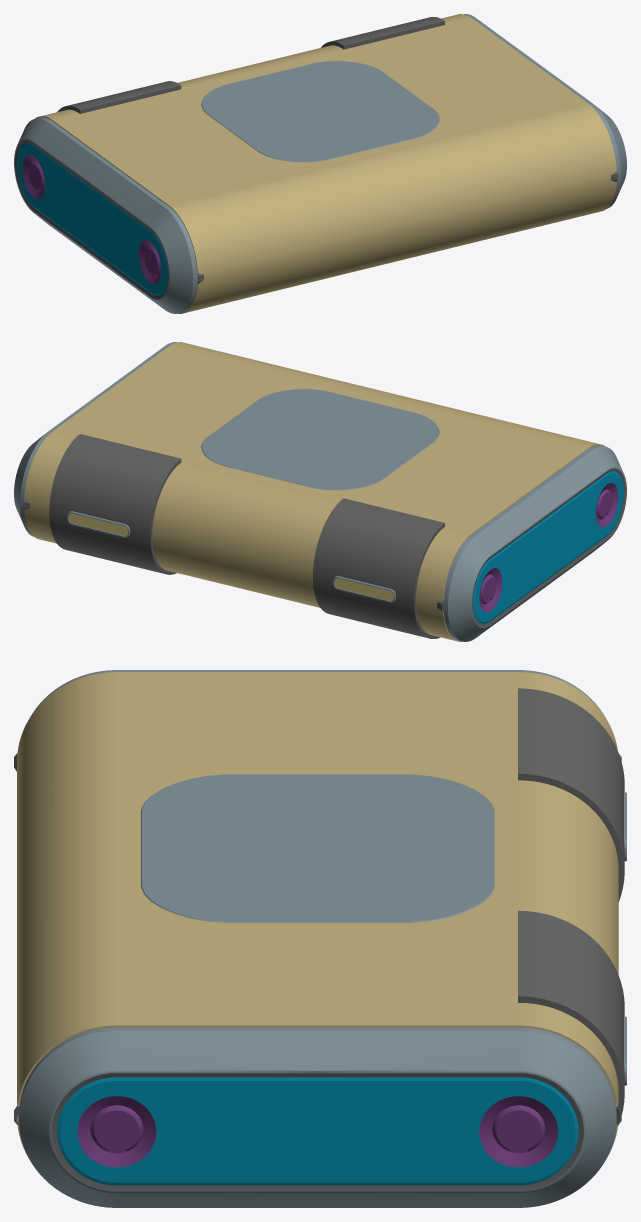
Rendered from env_building_warehouse02_lod0.fbx.
The picture shows the model from 3 angles, top to bottom: view 1: azimuth 30°, elevation 25°; view 2: azimuth 150°, elevation 25°; view 3: azimuth 270°, elevation 25°; orthographic projection. The views are drawn at different scales.
Visible parts, largest first — view 1: env_building_warehouse02_lod0; view 2: env_building_warehouse02_lod0; view 3: env_building_warehouse02_lod0.
Boxes of the visible parts, left/top/right/bottom form: env_building_warehouse02_lod0: left=14, top=14, right=626, bottom=313; env_building_warehouse02_lod0: left=14, top=342, right=626, bottom=641; env_building_warehouse02_lod0: left=14, top=670, right=626, bottom=1207.
Size of the model in its own units: 567 by 133 by 381.
